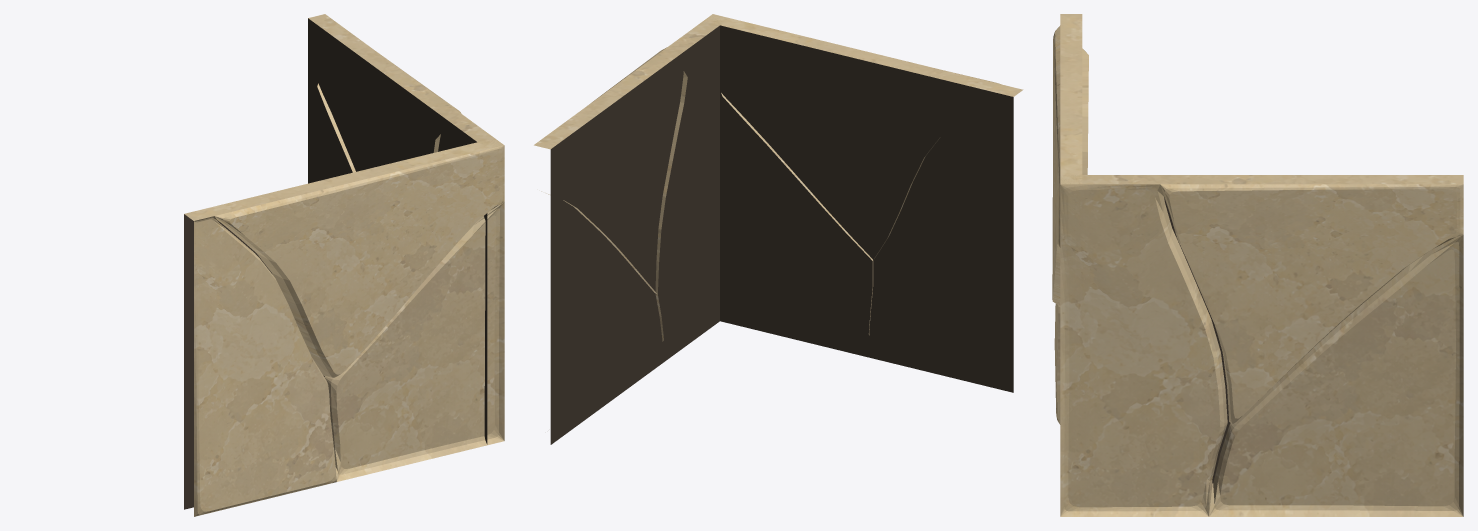
File: ground_corner_05.glb
3 renders of one model, left to right at view 1: azimuth 30°, elevation 25°; view 2: azimuth 150°, elevation 25°; view 3: azimuth 270°, elevation 25°, orthographic. The views are drawn at different scales.
Parts seen in each view (by area): view 1: GroundCorner05_Body; view 2: GroundCorner05_Body; view 3: GroundCorner05_Body.
Boxes of the visible parts, left/top/right/bottom form: GroundCorner05_Body: left=184, top=14, right=504, bottom=516; GroundCorner05_Body: left=534, top=14, right=1023, bottom=444; GroundCorner05_Body: left=1052, top=14, right=1463, bottom=516.
Bounding box in the file's own units: 1.02 × 0.91 × 1.02.
8 materials, 7 textured.
